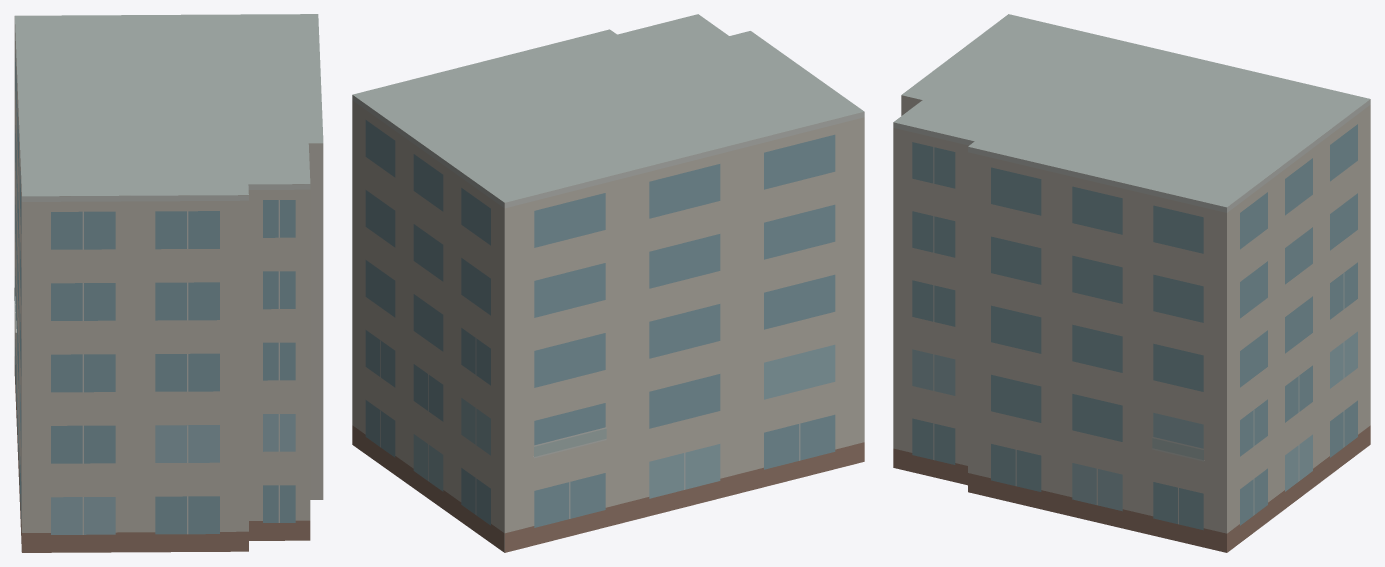
The model's file is survey-upis-32870630.glb.
3 renders of one model, left to right at view 1: azimuth 30°, elevation 25°; view 2: azimuth 150°, elevation 25°; view 3: azimuth 270°, elevation 25°, orthographic. The views are drawn at different scales.
Visible parts, largest first — view 1: survey-upis-32870630.tmp; view 2: survey-upis-32870630.tmp; view 3: survey-upis-32870630.tmp.
Boxes of the visible parts, <box> form: survey-upis-32870630.tmp: <box>14,14,323,552</box>; survey-upis-32870630.tmp: <box>352,14,864,552</box>; survey-upis-32870630.tmp: <box>893,14,1370,552</box>.
Bounding box in the file's own units: 18.32 × 15.25 × 19.11.
